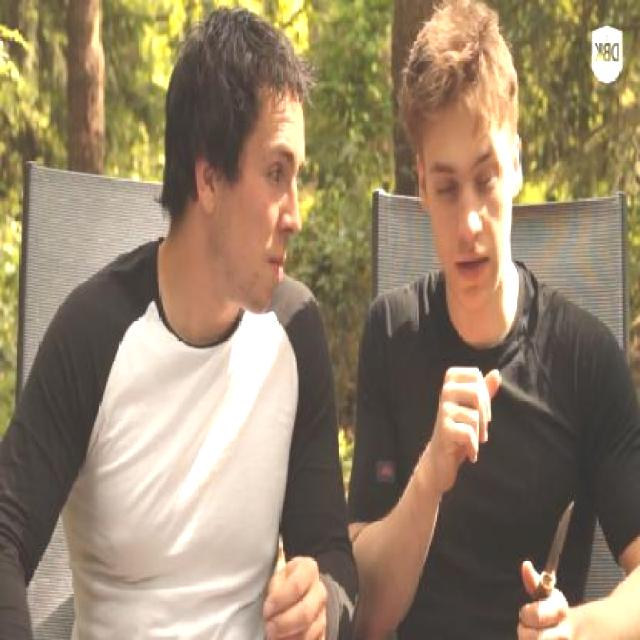knife: (509, 478, 582, 640)
